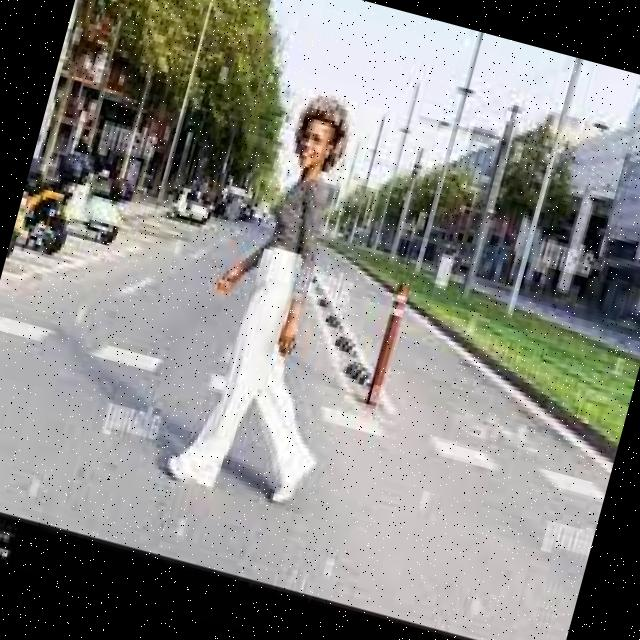Person: (160, 76, 408, 517)
